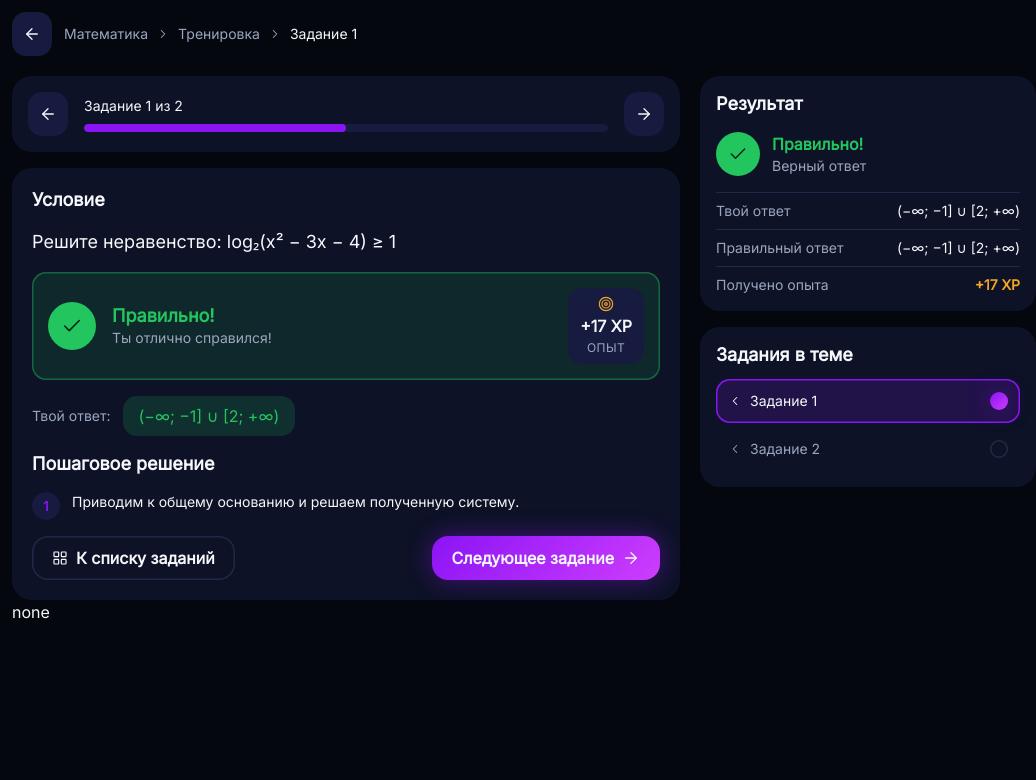
it: ResultDesktop — correct state › navigates to the next task using the ordered variant context when known
expect the text "Приводим к общему основанию и решаем полученную систему." is shown: met, box [72,493,519,510]
What coordinates should you click on to do the following:
click the button "Следующее задание"
I would click on:
 (546, 558)
Its box is [432,536,660,580].
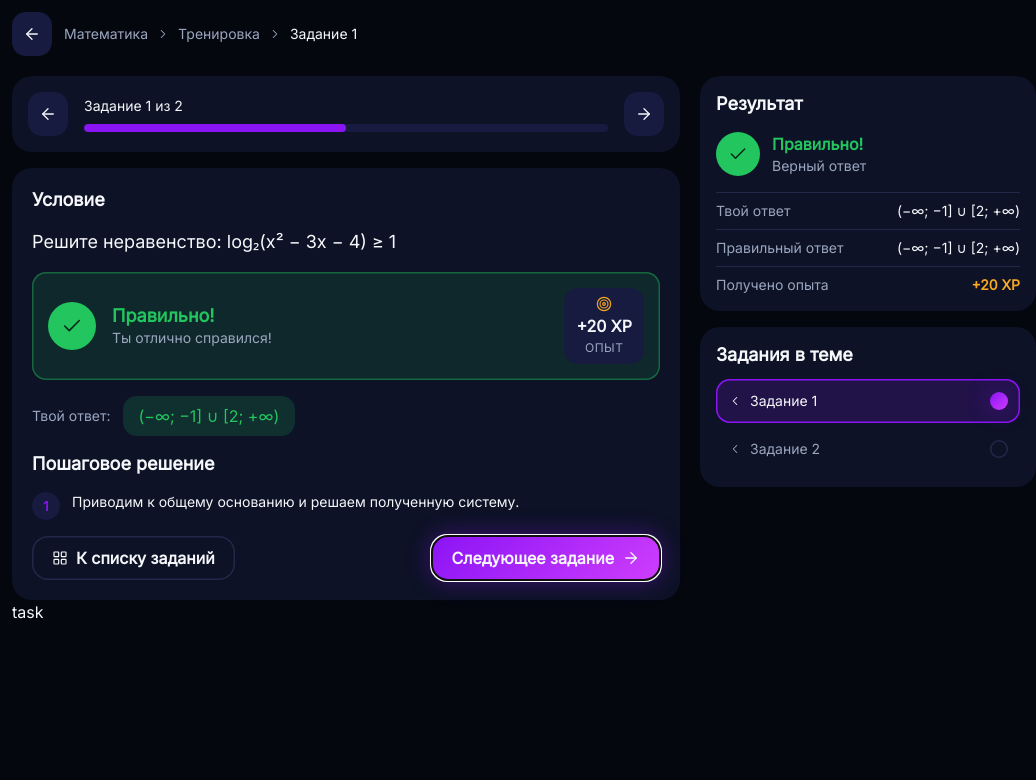
expect the text with test id "overlay" reads "task": met, box [12,602,44,622]
